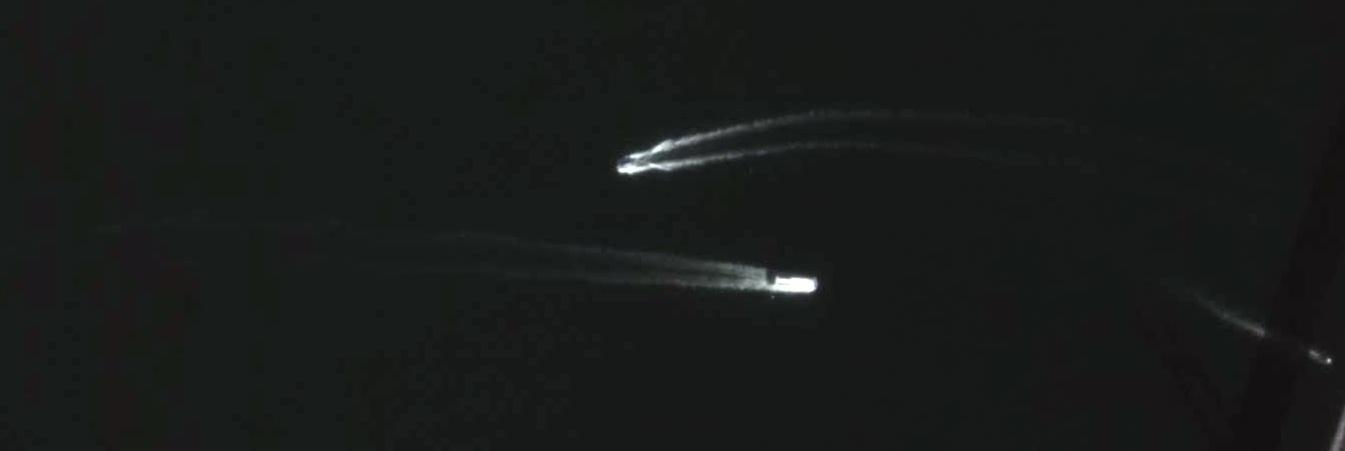person: (775, 276, 818, 292), (1307, 348, 1333, 366), (617, 159, 638, 168)
